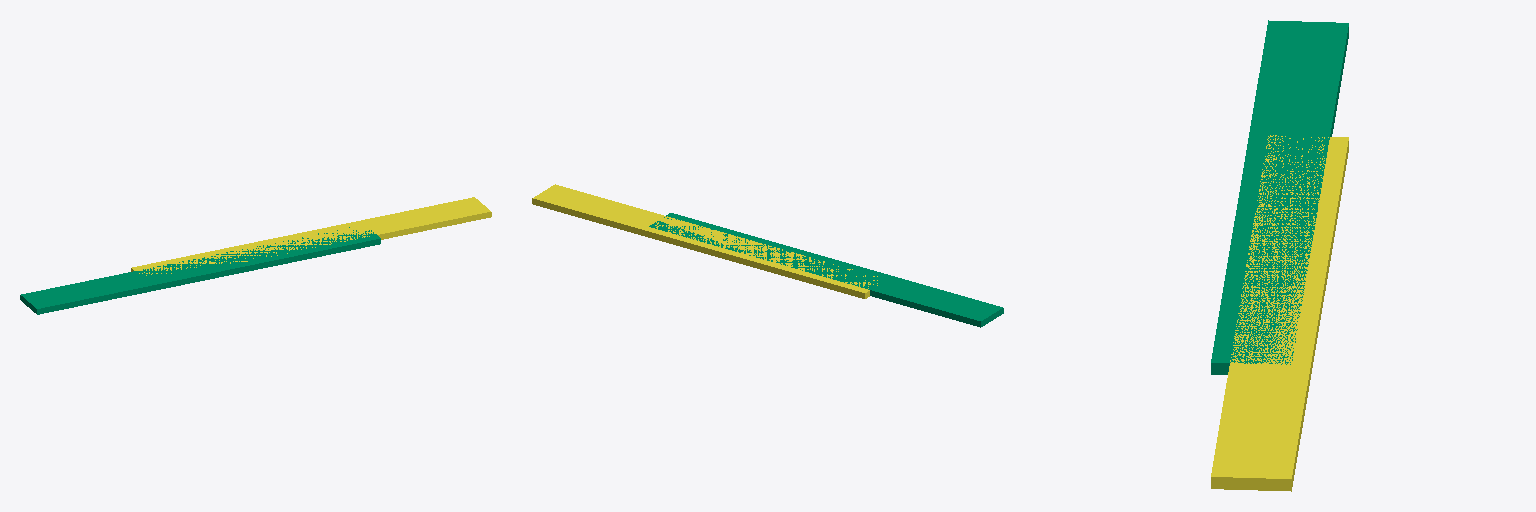
robot.urdf — bikered:
<?xml version="1.0"?>
<robot name="bikered">
  <link name="bike_root">
    <inertial>
      <origin xyz="0 0 0" rpy="0 0 0"/>
      <mass value="0.001"/>
      <inertia ixx="0.001" ixy="0" ixz="0" iyy="0.001" iyz="0" izz="0.001"/>
    </inertial>
  </link>

  <joint name="bike_root_to_mesh" type="fixed">
    <origin xyz="0 0 0" rpy="0 0 0"/>
    <parent link="bike_root"/>
    <child link="bikered_body"/>
  </joint>

  <link name="bikered_body">
    <inertial>
      <origin xyz="0 0 0" rpy="0 0 0"/>
      <mass value="8.0"/>
      <inertia ixx="0.08" ixy="0" ixz="0" iyy="0.08" iyz="0" izz="0.08"/>
    </inertial>
    <visual>
      <origin xyz="0 0 0" rpy="0 0 0"/>
      <geometry>
        <mesh filename="../bikered.stl" scale="1 1 1"/>
      </geometry>
    </visual>
    <collision>
      <origin xyz="0 0 0" rpy="0 0 0"/>
      <geometry>
        <mesh filename="../bikered.stl" scale="1 1 1"/>
      </geometry>
    </collision>
  </link>

  <joint name="RearSupportLeft" type="fixed">
    <origin xyz="0 0 0" rpy="0 0 0"/>
    <parent link="bike_root"/>
    <child link="rear_support_left"/>
  </joint>

  <link name="rear_support_left">
    <inertial>
      <origin xyz="-0.2 -1 -1.0" rpy="0 0 1.5"/>
      <mass value="0.3"/>
      <inertia ixx="0.002" ixy="0" ixz="0" iyy="0.02" iyz="0" izz="0.002"/>
    </inertial>
    <visual>
      <origin xyz="-0.2 -1 -1.0" rpy="0 0 1.5"/>
      <geometry>
        <box size="0.12 1.2 0.02"/>
      </geometry>
    </visual>
    <collision>
      <origin xyz="-0.2 -1 -1.0" rpy="0 0 1.5"/>
      <geometry>
        <box size="0.12 1.2 0.02"/>
      </geometry>
    </collision>
  </link>

  <joint name="RearSupportRight" type="fixed">
    <origin xyz="0 0 0" rpy="0 0 0"/>
    <parent link="bike_root"/>
    <child link="rear_support_right"/>
  </joint>

  <link name="rear_support_right">
    <inertial>
      <origin xyz="0.2 -1 -1.0" rpy="0 0 1.5"/>
      <mass value="0.3"/>
      <inertia ixx="0.002" ixy="0" ixz="0" iyy="0.02" iyz="0" izz="0.002"/>
    </inertial>
    <visual>
      <origin xyz="0.2 -1 -1.0" rpy="0 0 1.5"/>
      <geometry>
        <box size="0.12 1.2 0.02"/>
      </geometry>
    </visual>
    <collision>
      <origin xyz="0.2 -1 -1.0" rpy="0 0 1.5"/>
      <geometry>
        <box size="0.12 1.2 0.02"/>
      </geometry>
    </collision>
  </link>
</robot>

--- Facts derived from the render (not from the file) ---
The picture shows the robot from 3 angles, left to right: view 1: azimuth 30°, elevation 25°; view 2: azimuth 150°, elevation 25°; view 3: azimuth 270°, elevation 25°; orthographic projection.
Robot: bikered — 4 links, 3 joints (3 fixed); root link bike_root; default pose: all joints at 0.
Links seen in each view (by area): view 1: rear_support_left, rear_support_right; view 2: rear_support_right, rear_support_left; view 3: rear_support_left, rear_support_right.
Boxes of the visible links, x1,y1,x2,y2 form: rear_support_left: [20, 227, 380, 314]; rear_support_right: [131, 197, 491, 275]; rear_support_right: [532, 184, 877, 298]; rear_support_left: [649, 213, 1003, 327]; rear_support_left: [1211, 20, 1348, 374]; rear_support_right: [1211, 135, 1348, 491].
Size in the robot's own frame: 1.61 by 0.2046 by 0.02 metres.
Meshes: 1 distinct files referenced, 0 mesh visuals loaded (none loaded); not drawn: 1 (reference not matched to a file when rendering).
